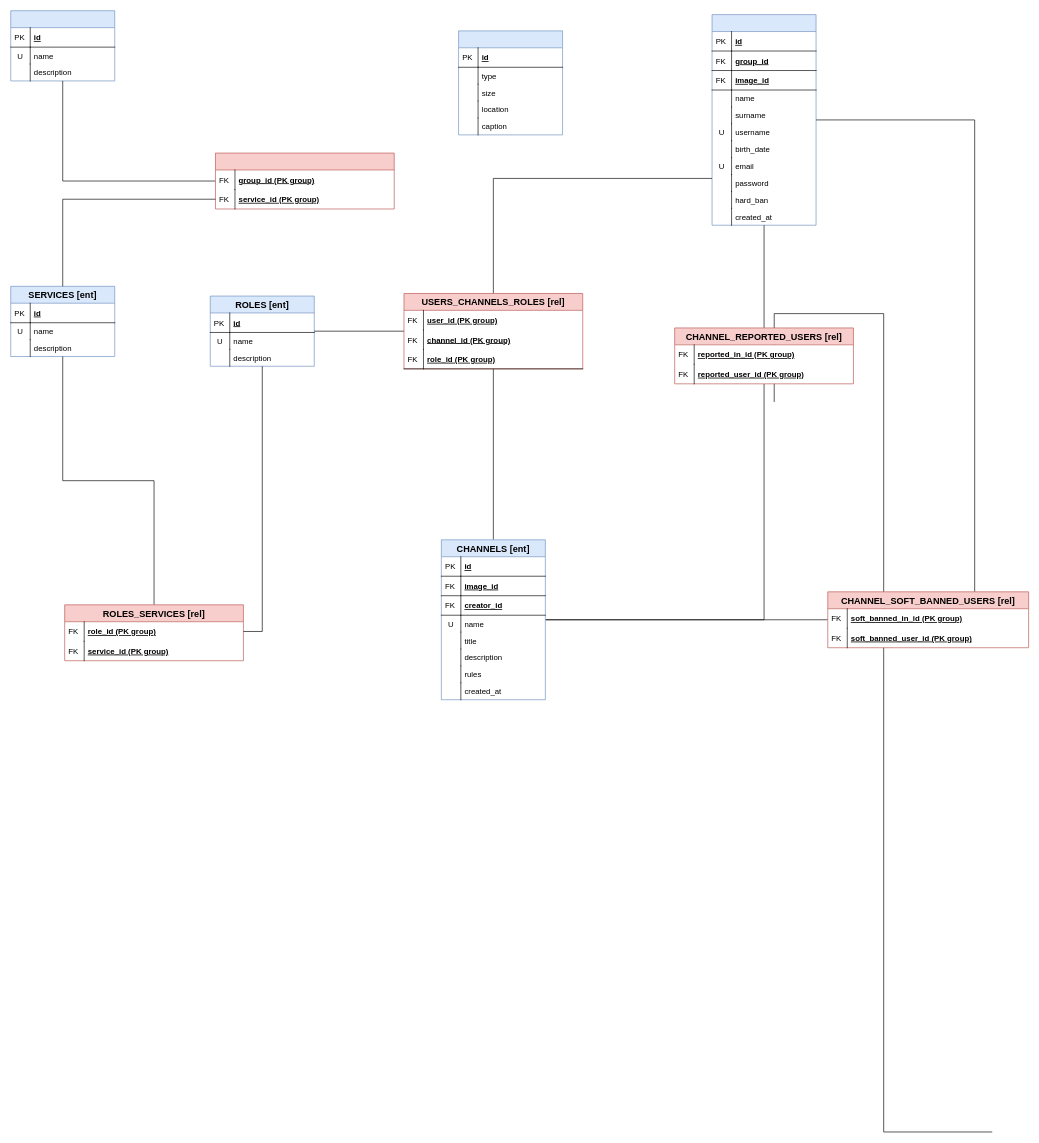
Image size: 1039x1143. Some labels were removed from this diagram. The shapes that lost their labels are listed below. From the top down, each one's box as (x1, y1, x2, y2) in pixels, then its label:
(10, 10, 115, 81): GROUPS [ent]
(458, 30, 563, 135): IMAGES [ent]
(711, 14, 816, 225): USERS [ent]
(215, 152, 394, 209): GROUPS_SERVICES [rel]
